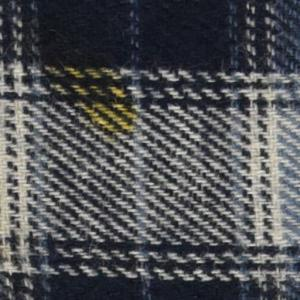Oil Stain: (39, 47, 141, 145)
